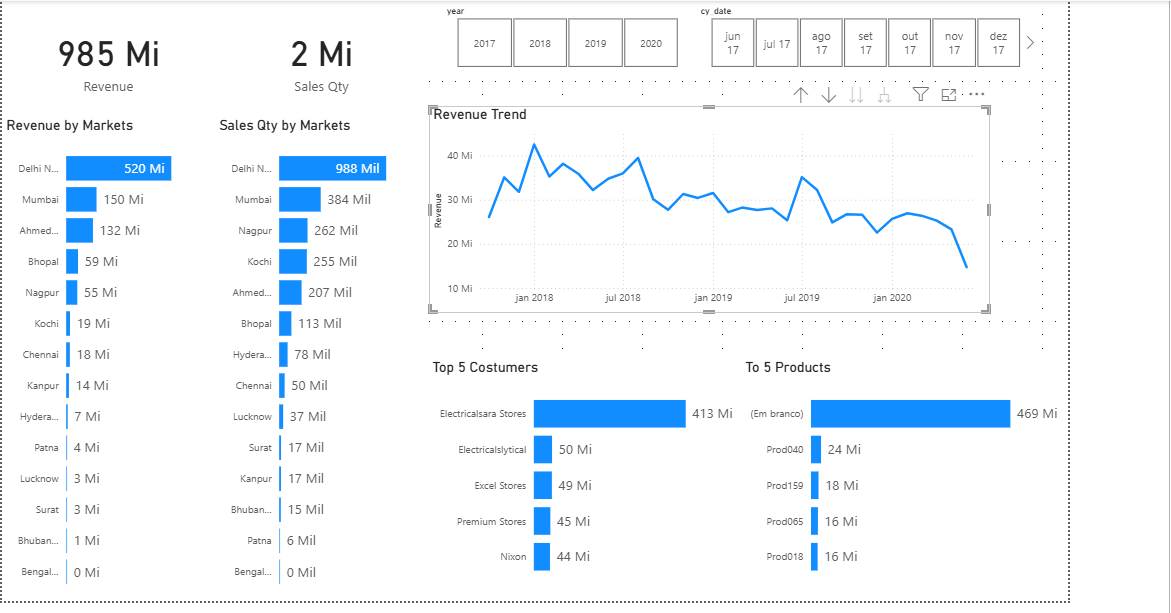

The dashboard page shown, as its layout file describes it:
{"tool":"powerbi","page":{"name":"Página 1","canvas":[1280,720],"ordinal":0},"visuals":[{"type":"card","fields":{"Values":["BaseMeasures.Revenue"]},"box":[0,0,255.6,139.2],"z":0},{"type":"card","fields":{"Values":["BaseMeasures.Sales Qty"]},"box":[255.6,0,255.6,139.2],"z":1000},{"type":"barChart","title":"Revenue by Markets","fields":{"Y":["BaseMeasures.Revenue"],"Category":["sales markets.markets_name"]},"box":[0,139.2,255.6,580.8],"z":2000},{"type":"slicer","fields":{"Values":["sales date.year"]},"box":[520.8,0,314.4,86.4],"z":3000},{"type":"barChart","title":"Sales Qty by Markets","fields":{"Y":["BaseMeasures.Sales Qty"],"Category":["sales markets.markets_name"]},"box":[255.6,139.2,255.6,580.8],"z":4000},{"type":"slicer","fields":{"Values":["sales date.cy_date"]},"box":[825.8,0,419.7,86.2],"z":5000},{"type":"barChart","title":"Top 5 Custumers","fields":{"Y":["BaseMeasures.Revenue"],"Category":["sales customers.custmer_name"]},"box":[520.8,429.6,742.8,277.2],"z":6000},{"type":"lineChart","title":"Revenue Trend","fields":{"Y":["BaseMeasures.Revenue"],"Category":["sales date.cy_date.Variation.Hierarquia de datas.Ano","sales date.cy_date.Variation.Hierarquia de datas.Trimestre","sales date.cy_date.Variation.Hierarquia de datas.Mês","sales date.cy_date.Variation.Hierarquia de datas.Dia"]},"box":[512.4,126,673.2,248.4],"z":6002}]}

Visuals, with their boxes on the page's 1280x720 design canvas (x1, y1, x2, y2). These are canvas units, not pixel positions in the 1171x613 screenshot, which may show the page scaled, cropped or inside an application window:
card - BaseMeasures.Revenue: <bbox>0, 0, 256, 139</bbox>
card - BaseMeasures.Sales Qty: <bbox>256, 0, 511, 139</bbox>
"Revenue by Markets" barChart: <bbox>0, 139, 256, 720</bbox>
slicer - sales date.year: <bbox>521, 0, 835, 86</bbox>
"Sales Qty by Markets" barChart: <bbox>256, 139, 511, 720</bbox>
slicer - sales date.cy_date: <bbox>826, 0, 1246, 86</bbox>
"Top 5 Custumers" barChart: <bbox>521, 430, 1264, 707</bbox>
"Revenue Trend" lineChart: <bbox>512, 126, 1186, 374</bbox>
